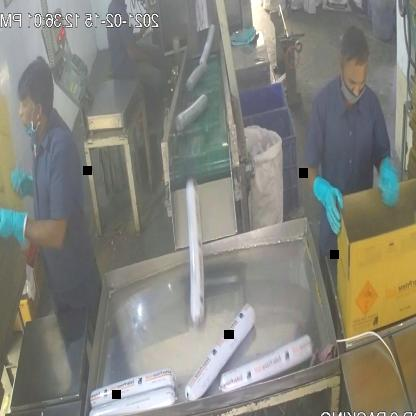glove: (306, 162, 347, 240), (0, 201, 37, 257), (368, 157, 404, 214)
